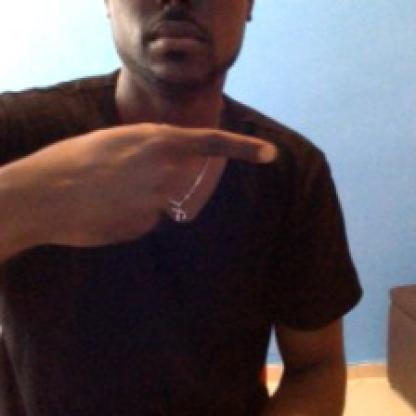TURN LEFT: (0, 107, 303, 264)
